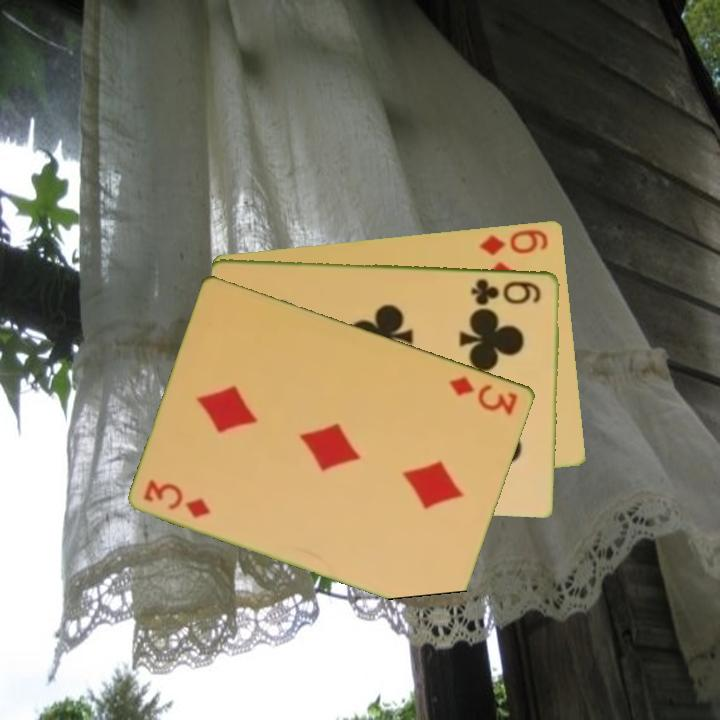3d: (446, 372, 521, 419), (140, 475, 215, 521)
6c: (468, 275, 544, 307)
6d: (476, 225, 552, 258)
